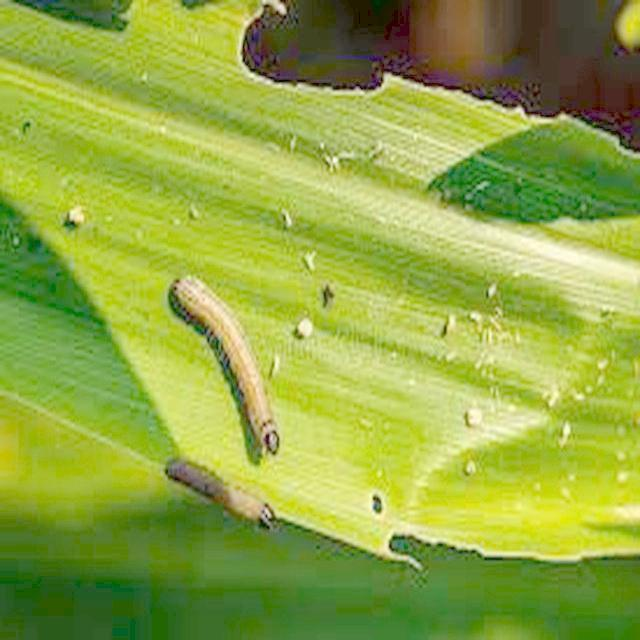worm: (167, 274, 282, 459), (161, 450, 281, 550)
